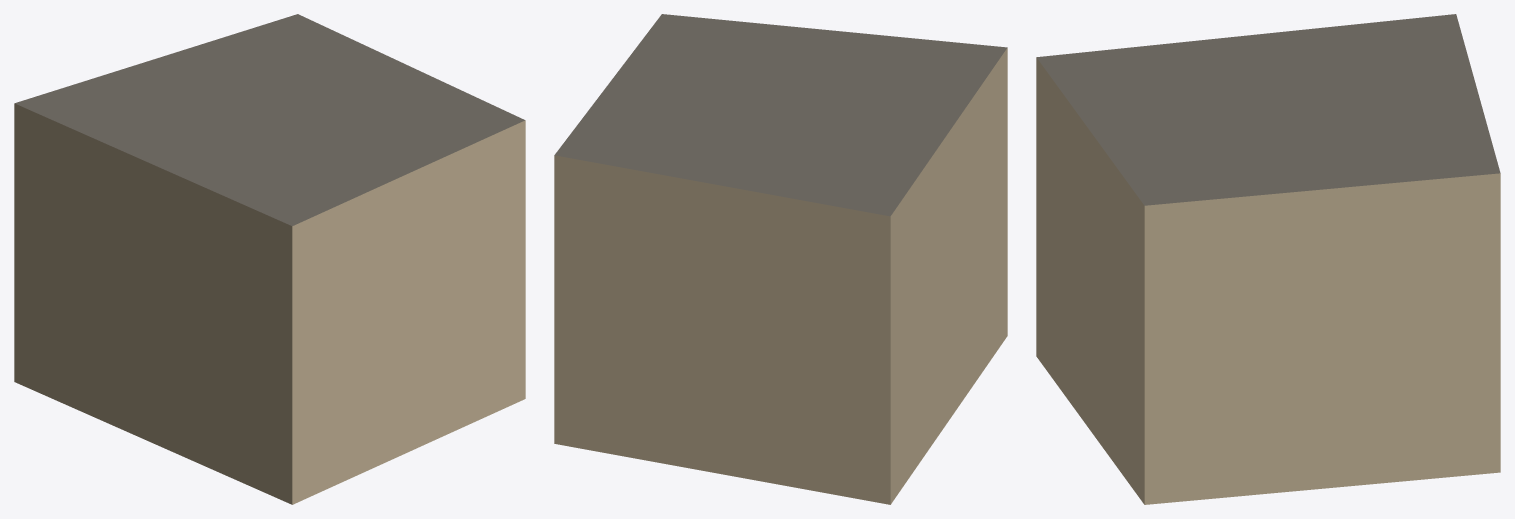
The picture shows the model from 3 angles, left to right: view 1: azimuth 30°, elevation 25°; view 2: azimuth 150°, elevation 25°; view 3: azimuth 270°, elevation 25°; orthographic projection. The views are drawn at different scales.
Parts seen in each view (by area): view 1: HP-w300652467; view 2: HP-w300652467; view 3: HP-w300652467.
Boxes of the visible parts, <box> form: HP-w300652467: <box>14,14,525,504</box>; HP-w300652467: <box>554,14,1007,504</box>; HP-w300652467: <box>1036,14,1500,504</box>.
Size of the model in its own units: 18.14 by 13.2 by 18.56.
